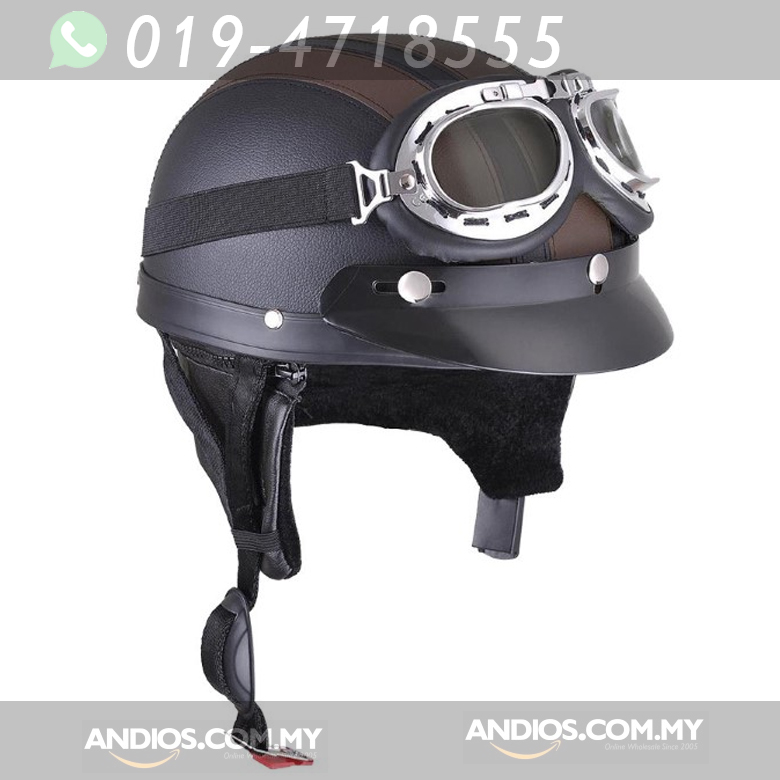with_helmet: (134, 35, 681, 372)
